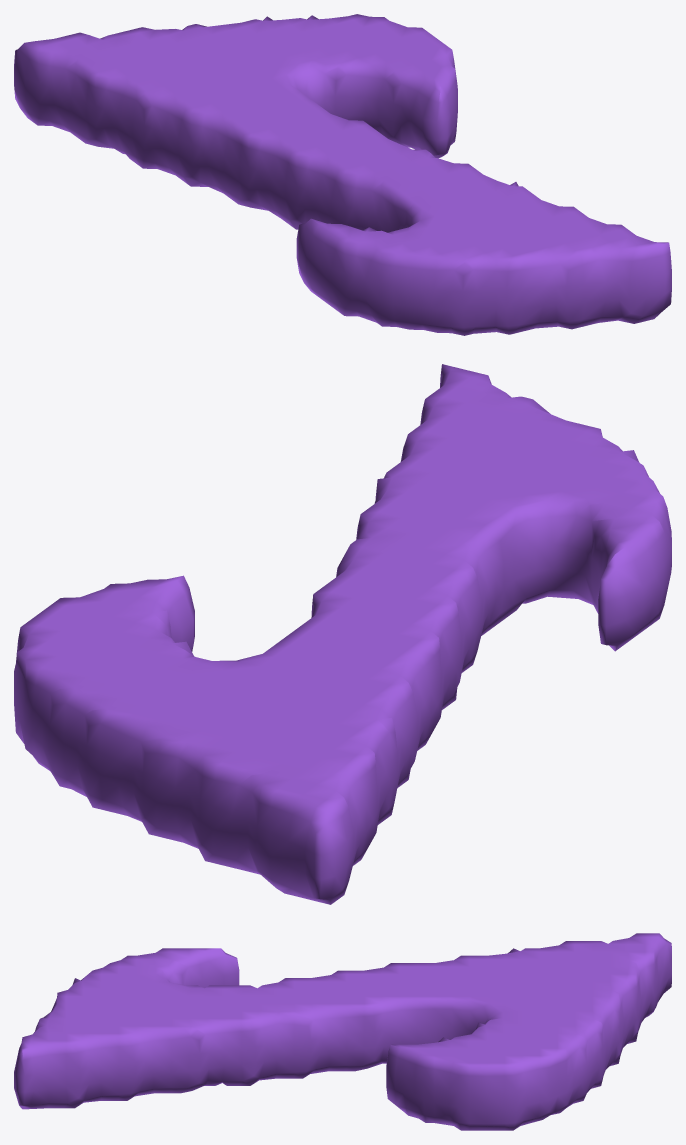
Rendered from usp.glb.
The picture shows the model from 3 angles, top to bottom: view 1: azimuth 30°, elevation 25°; view 2: azimuth 150°, elevation 25°; view 3: azimuth 270°, elevation 25°; orthographic projection. The views are drawn at different scales.
Parts seen in each view (by area): view 1: Curve; view 2: Curve; view 3: Curve.
Part boxes in pixels (left/top/right/bottom): Curve: left=14, top=14, right=671, bottom=335; Curve: left=14, top=364, right=671, bottom=904; Curve: left=14, top=933, right=671, bottom=1130.
Size of the model in its own units: 0.0943 by 0.02 by 0.1876.
